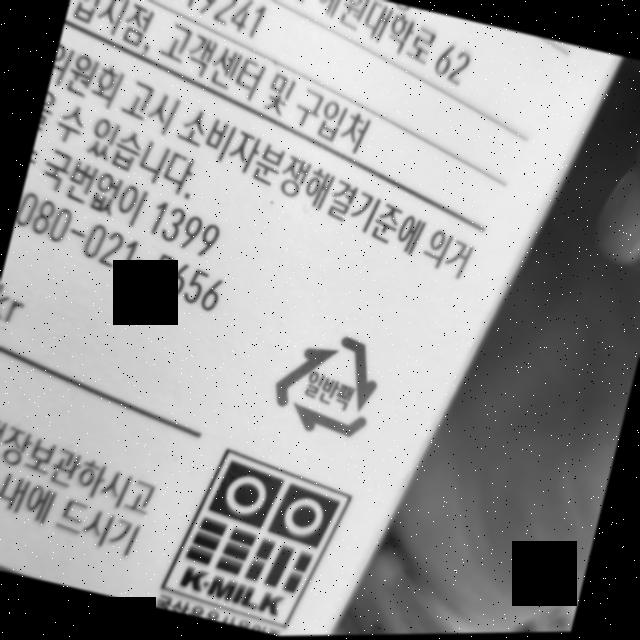NormalPack: (265, 317, 395, 456)
